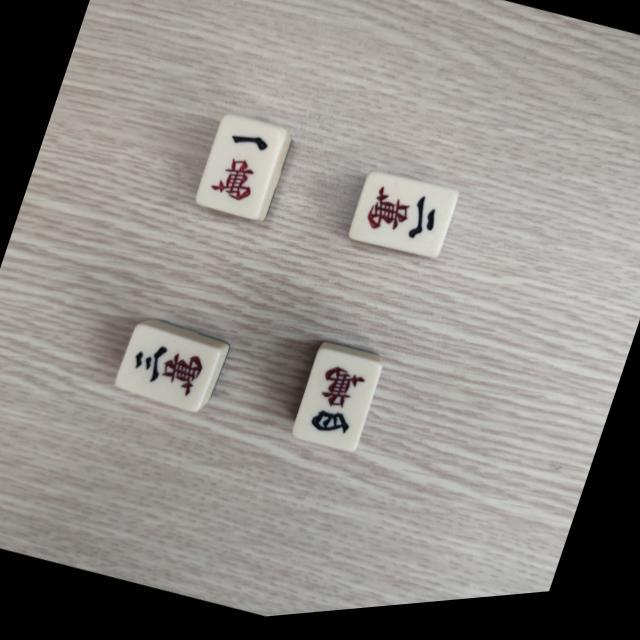sc1: (198, 118, 284, 224)
sc2: (356, 176, 453, 266)
sc3: (120, 329, 214, 414)
sc4: (294, 354, 381, 457)
